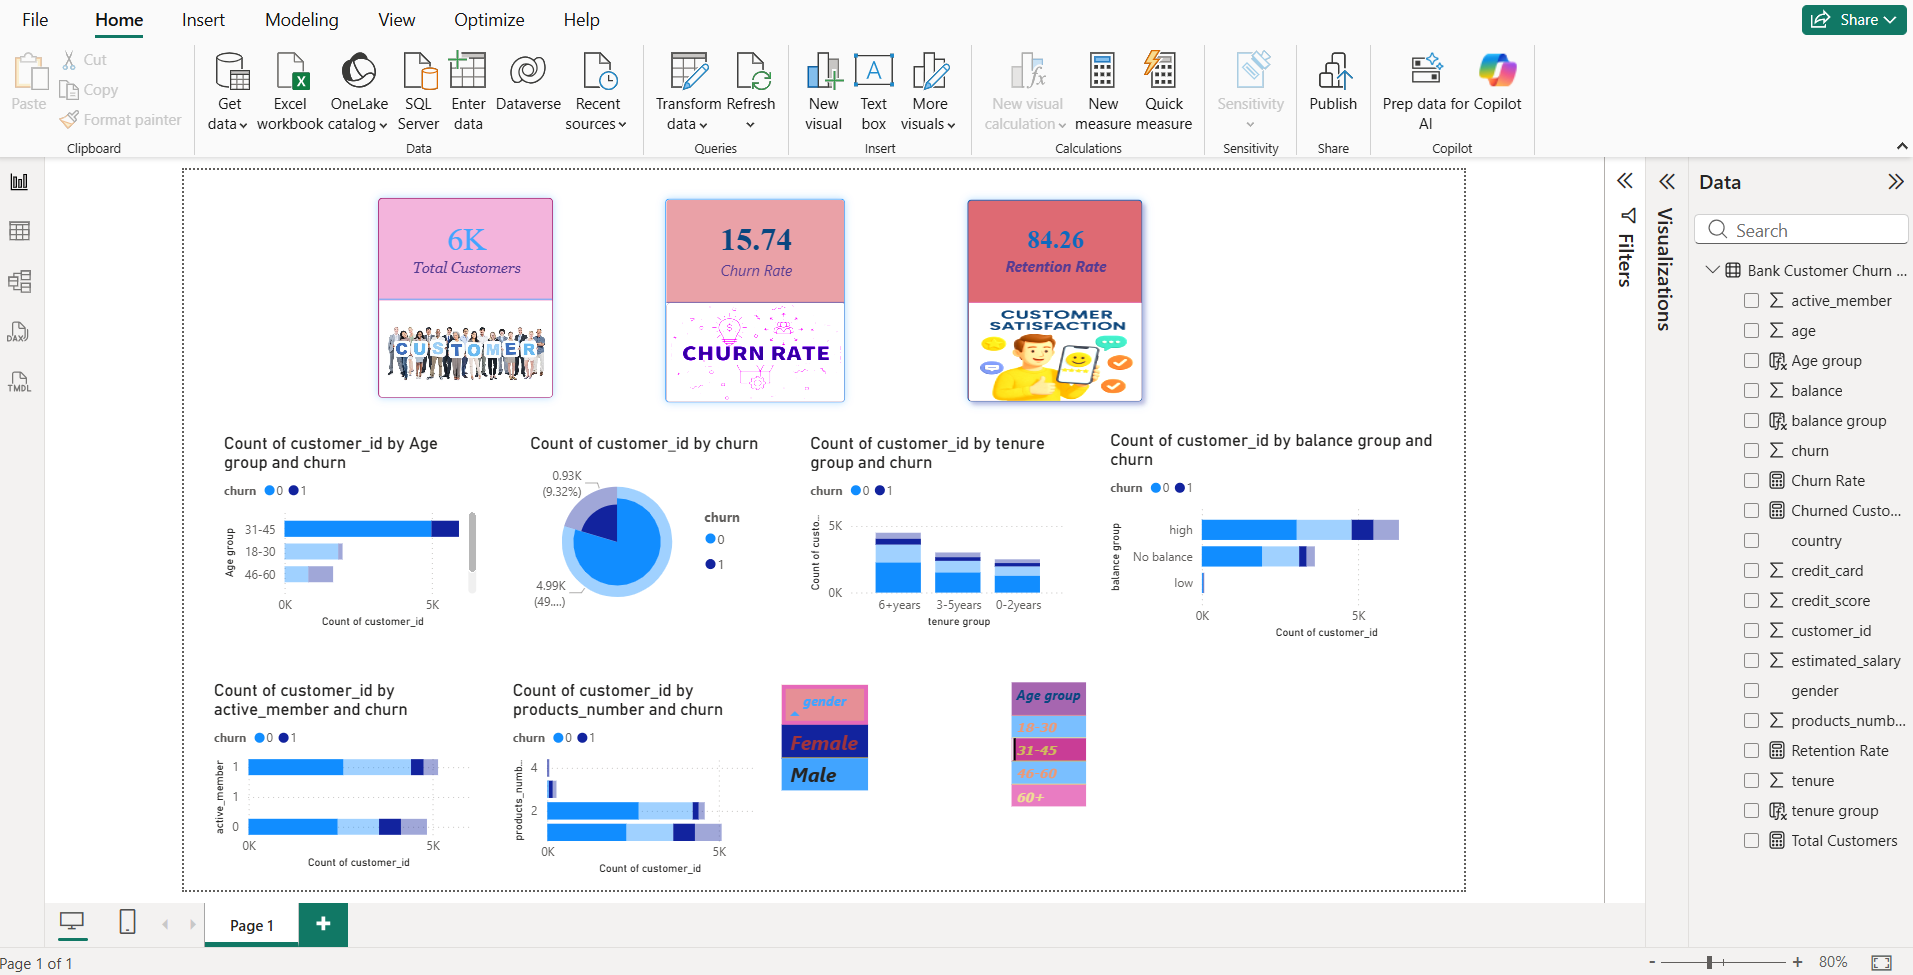

What the dashboard file says about the page in this screenshot:
{"tool":"powerbi","page":{"name":"Page 1","canvas":[1280,720],"ordinal":0},"visuals":[{"type":"cardVisual","fields":{"Data":["Bank Customer Churn Prediction.Churn Rate"]},"box":[310,0,239,263],"z":0},{"type":"cardVisual","fields":{"Data":["Bank Customer Churn Prediction.Total Customers"]},"box":[79,0,231,256],"z":1000},{"type":"cardVisual","fields":{"Data":["Bank Customer Churn Prediction.Retention Rate"]},"box":[565,0,235,263],"z":2000},{"type":"pieChart","fields":{"Category":["Bank Customer Churn Prediction.churn"],"Y":["Sum(Bank Customer Churn Prediction.customer_id)"]},"box":[332,256,240,200],"z":3000},{"type":"barChart","fields":{"Category":["Bank Customer Churn Prediction.Age group"],"Series":["Bank Customer Churn Prediction.churn"],"Y":["Sum(Bank Customer Churn Prediction.customer_id)"]},"box":[40,247,262,200],"z":4000},{"type":"columnChart","fields":{"Category":["Bank Customer Churn Prediction.tenure group"],"Y":["Sum(Bank Customer Churn Prediction.customer_id)"],"Series":["Bank Customer Churn Prediction.churn"]},"box":[584,260,266,200],"z":5000},{"type":"barChart","fields":{"Category":["Bank Customer Churn Prediction.active_member"],"Y":["Sum(Bank Customer Churn Prediction.customer_id)"],"Series":["Bank Customer Churn Prediction.churn"]},"box":[30,489,272,193],"z":6000},{"type":"barChart","fields":{"Category":["Bank Customer Churn Prediction.products_number"],"Y":["Sum(Bank Customer Churn Prediction.customer_id)"],"Series":["Bank Customer Churn Prediction.churn"]},"box":[332.5,488.8,257.5,200],"z":7000},{"type":"tableEx","fields":{"Values":["Bank Customer Churn Prediction.gender"]},"box":[630,488.8,200,200],"z":8000},{"type":"tableEx","fields":{"Values":["Bank Customer Churn Prediction.Age group"]},"box":[850,488.8,200,200],"z":8001}]}

Visuals, with their boxes on the page's 1280x720 design canvas (x1, y1, x2, y2). These are canvas units, not pixel positions in the 1913x975 screenshot, which may show the page scaled, cropped or inside an application window:
cardVisual - Bank Customer Churn Prediction.Churn Rate: {"x1": 310, "y1": 0, "x2": 549, "y2": 263}
cardVisual - Bank Customer Churn Prediction.Total Customers: {"x1": 79, "y1": 0, "x2": 310, "y2": 256}
cardVisual - Bank Customer Churn Prediction.Retention Rate: {"x1": 565, "y1": 0, "x2": 800, "y2": 263}
pieChart - Bank Customer Churn Prediction.churn x Sum(Bank Customer Churn Prediction.customer_id): {"x1": 332, "y1": 256, "x2": 572, "y2": 456}
barChart - Bank Customer Churn Prediction.Age group x Bank Customer Churn Prediction.churn: {"x1": 40, "y1": 247, "x2": 302, "y2": 447}
columnChart - Bank Customer Churn Prediction.tenure group x Sum(Bank Customer Churn Prediction.customer_id): {"x1": 584, "y1": 260, "x2": 850, "y2": 460}
barChart - Bank Customer Churn Prediction.active_member x Sum(Bank Customer Churn Prediction.customer_id): {"x1": 30, "y1": 489, "x2": 302, "y2": 682}
barChart - Bank Customer Churn Prediction.products_number x Sum(Bank Customer Churn Prediction.customer_id): {"x1": 332, "y1": 489, "x2": 590, "y2": 689}
tableEx - Bank Customer Churn Prediction.gender: {"x1": 630, "y1": 489, "x2": 830, "y2": 689}
tableEx - Bank Customer Churn Prediction.Age group: {"x1": 850, "y1": 489, "x2": 1050, "y2": 689}
